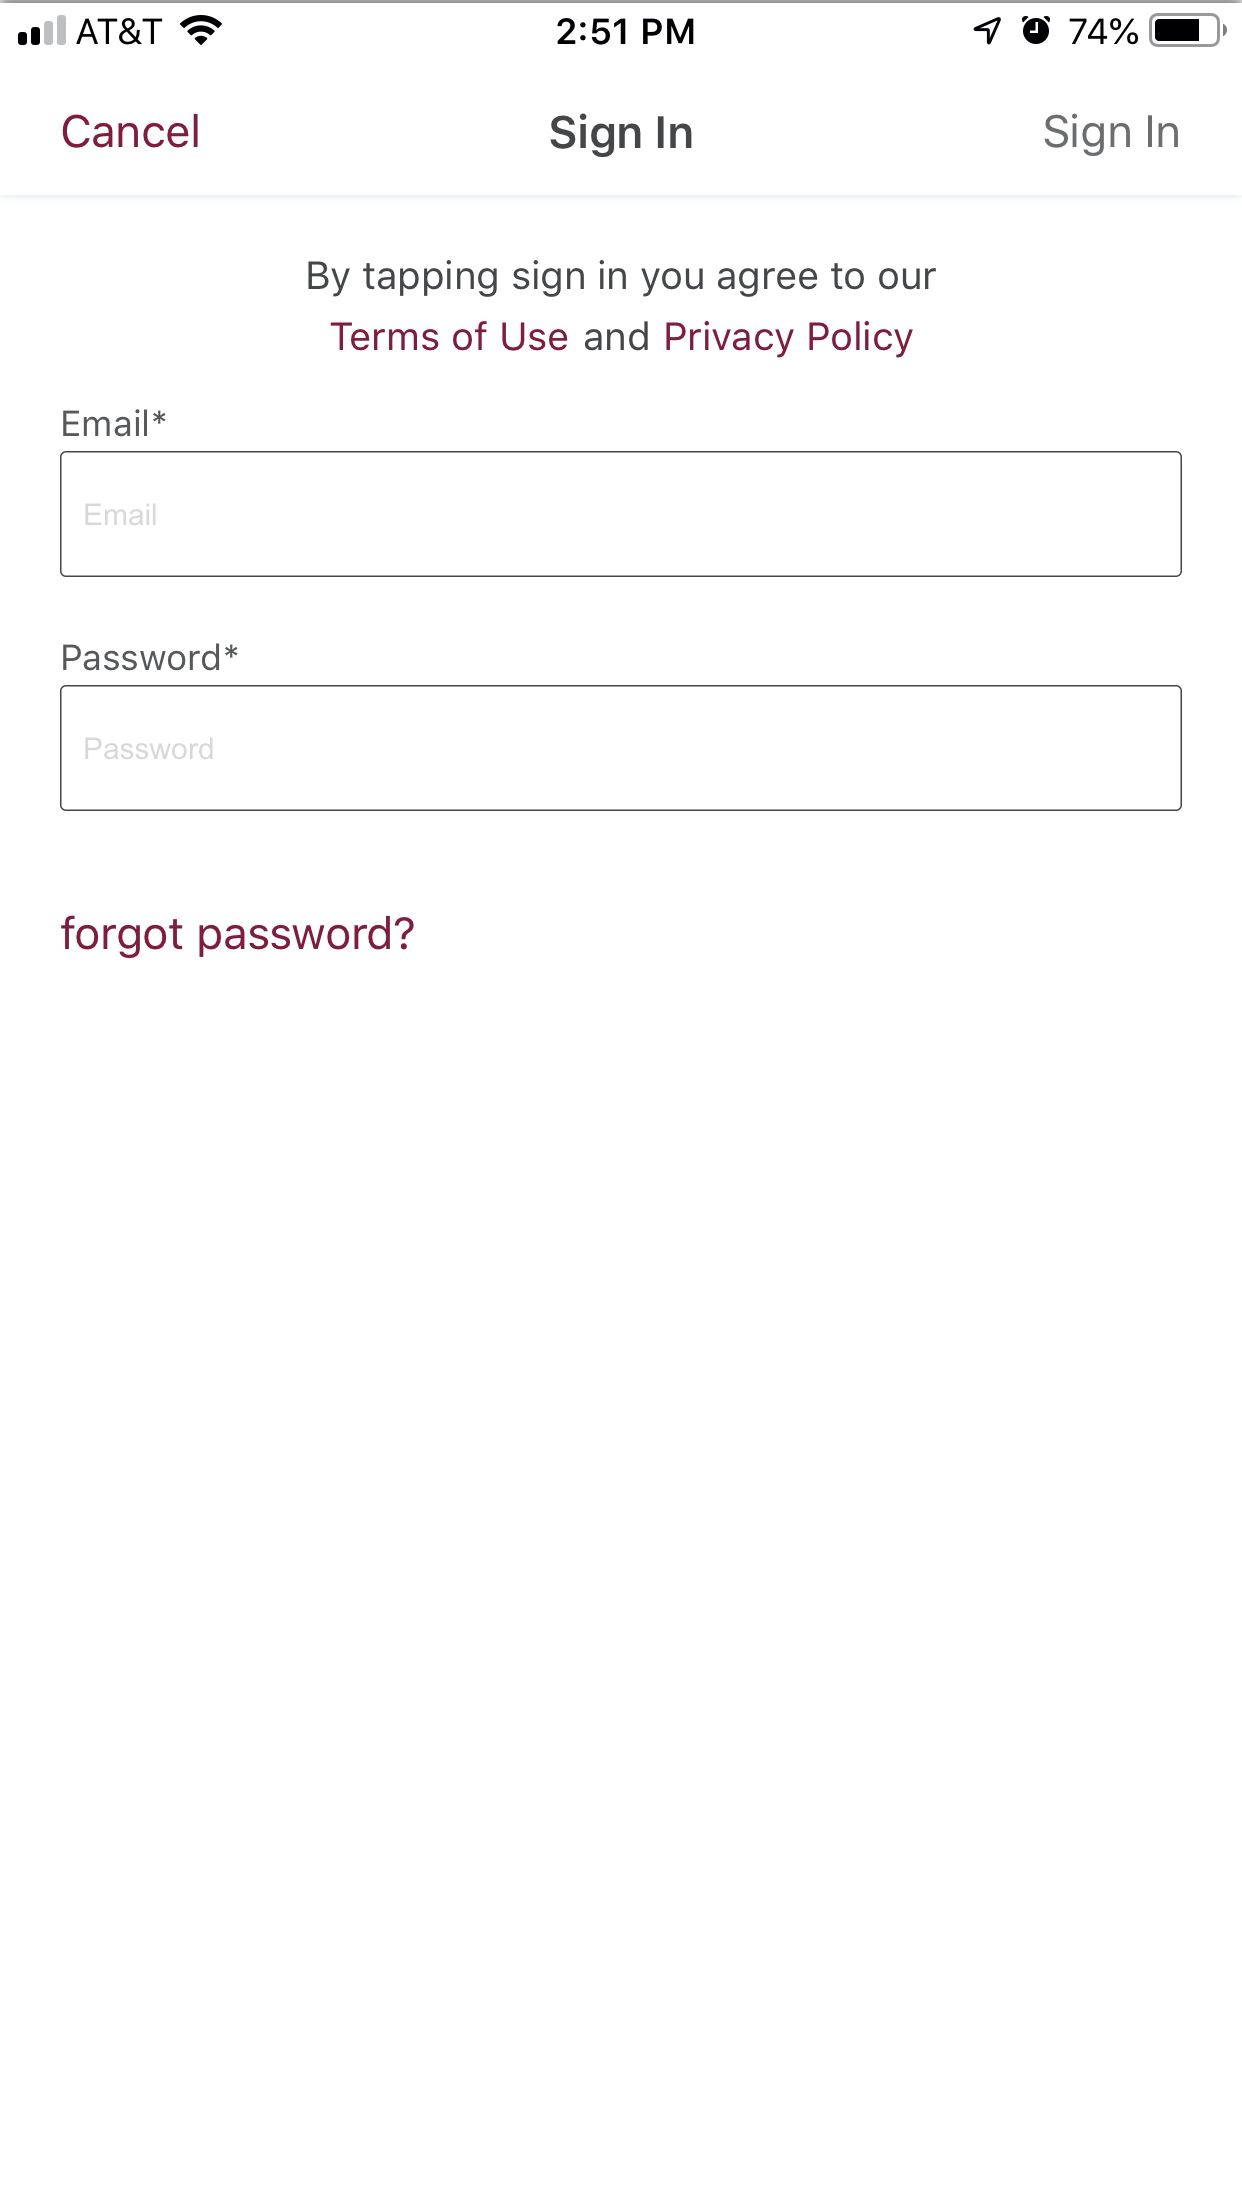EditText: (61, 685, 1181, 811), (61, 452, 1181, 578)
Text: (308, 259, 936, 359), (62, 914, 416, 958), (550, 114, 693, 159), (1043, 114, 1178, 158), (64, 643, 240, 673), (64, 115, 200, 150), (64, 409, 167, 438), (85, 737, 214, 760), (86, 503, 158, 528)
UpperTaskBar: (2, 2, 1242, 49)
